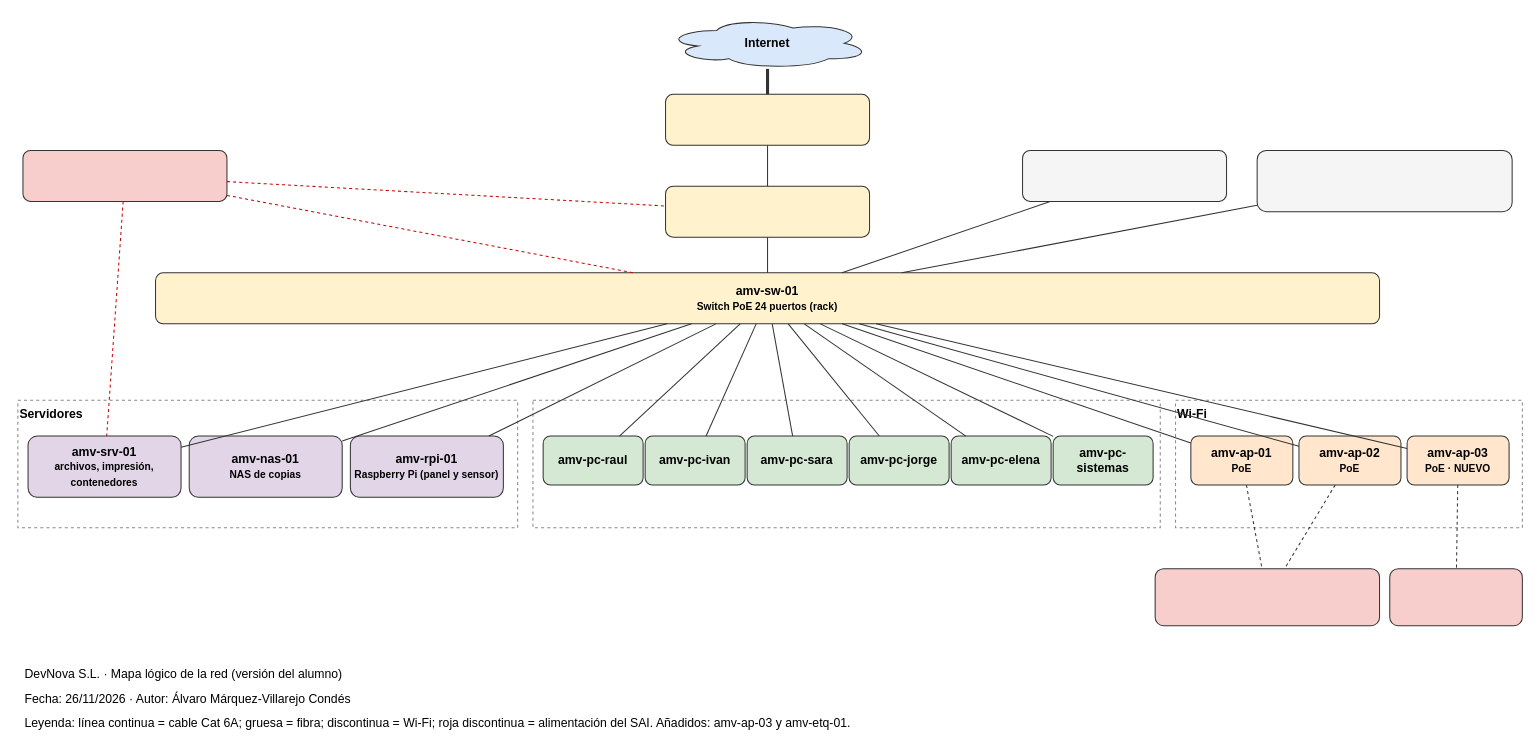
This 1540x749 diagram has some shape labels left out. Here are the shapes that lost their labels. From the top down, the box of each, then its label:
(665, 93, 870, 145): amv-ont-01 ONT · fibra del operador
(22, 149, 227, 201): SAI router, switch y servidor
(1022, 149, 1227, 201): amv-imp-01 multifunción en red
(1256, 149, 1512, 212): amv-etq-01 (NUEVA) etiquetas · sala de sistemas · cable
(665, 185, 870, 237): amv-fw-01 Router / cortafuegos
(532, 399, 1160, 528): Puestos de trabajo
(1154, 568, 1380, 626): Empleados (portátiles) Wi-Fi
(1389, 568, 1522, 626): Invitados (solo Internet) Wi-Fi separada
